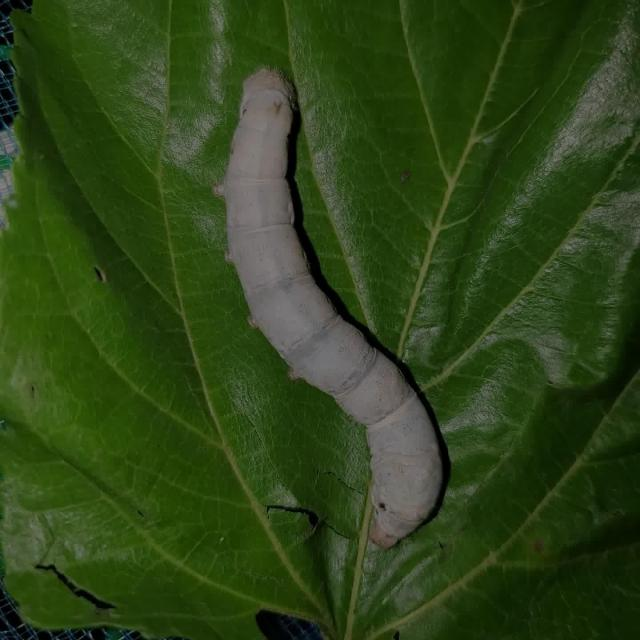Healthy: (188, 46, 498, 562)
